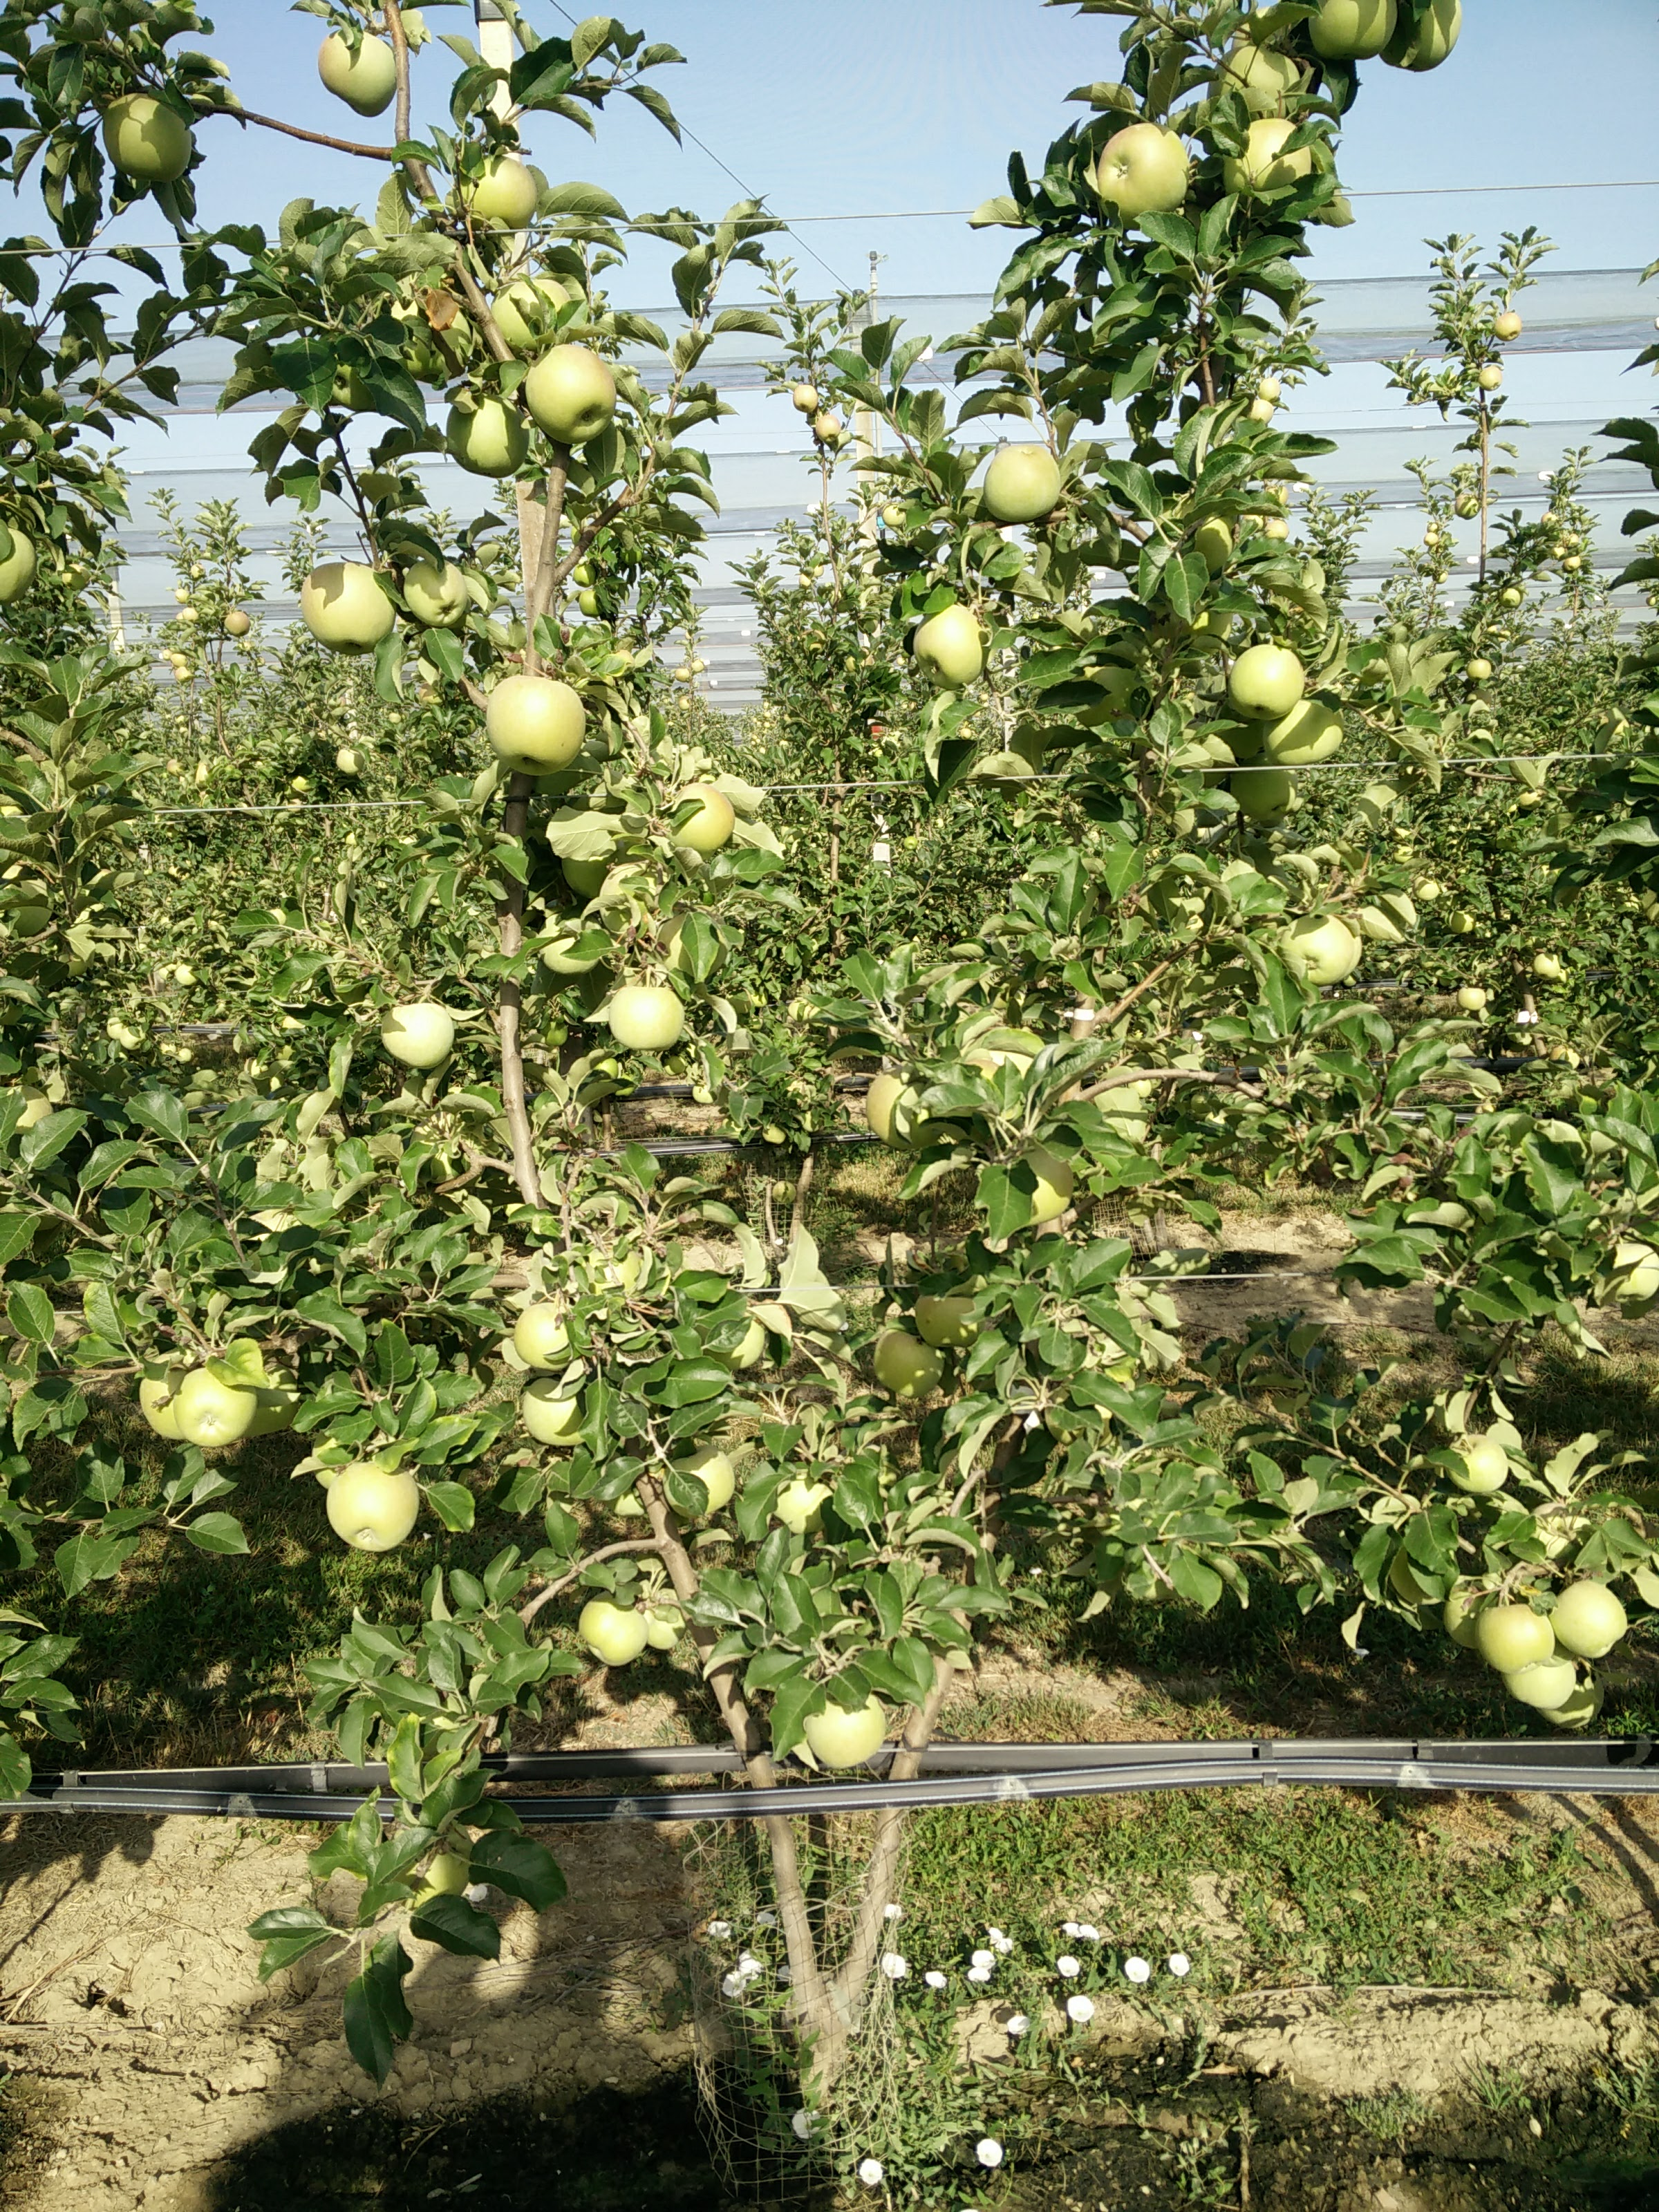apple: (481, 668, 591, 774), (1087, 123, 1191, 216), (306, 20, 403, 114), (290, 563, 393, 650), (100, 94, 196, 184), (524, 350, 621, 441), (793, 1680, 888, 1765), (328, 1461, 422, 1549), (443, 383, 532, 471), (912, 599, 997, 689), (983, 1134, 1078, 1215), (854, 1067, 941, 1150), (974, 438, 1061, 518), (449, 153, 541, 228), (485, 272, 572, 352), (170, 1366, 259, 1441), (1477, 1597, 1557, 1678), (1271, 692, 1347, 775), (1284, 910, 1367, 988), (1547, 1582, 1631, 1656), (573, 1592, 659, 1666), (517, 1377, 603, 1445), (662, 776, 739, 850), (1225, 639, 1300, 711), (607, 984, 686, 1051), (377, 1001, 460, 1065), (398, 556, 467, 628), (865, 1327, 941, 1392), (1442, 1430, 1512, 1499), (513, 1300, 583, 1363), (914, 1286, 987, 1349)
